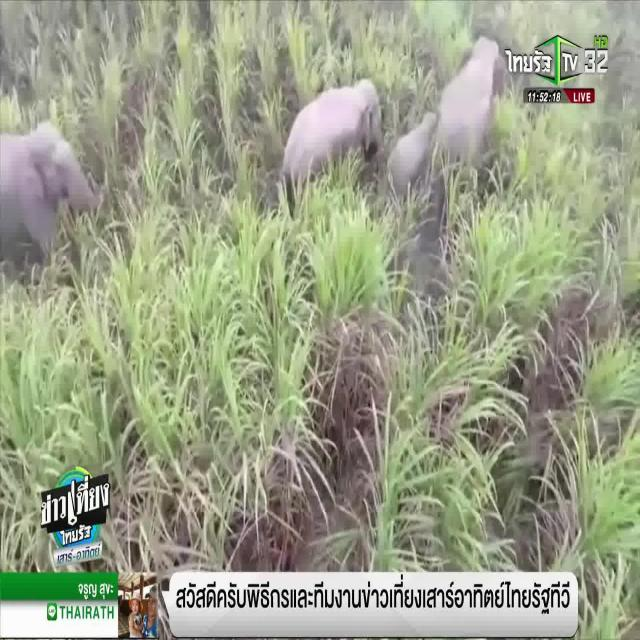Elephant: (2, 124, 88, 213), (294, 85, 384, 162), (449, 45, 502, 146), (402, 114, 434, 169)
